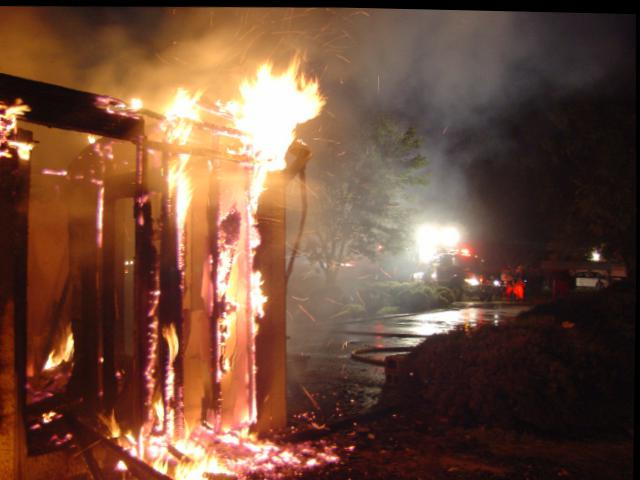fire: (2, 48, 343, 479)
